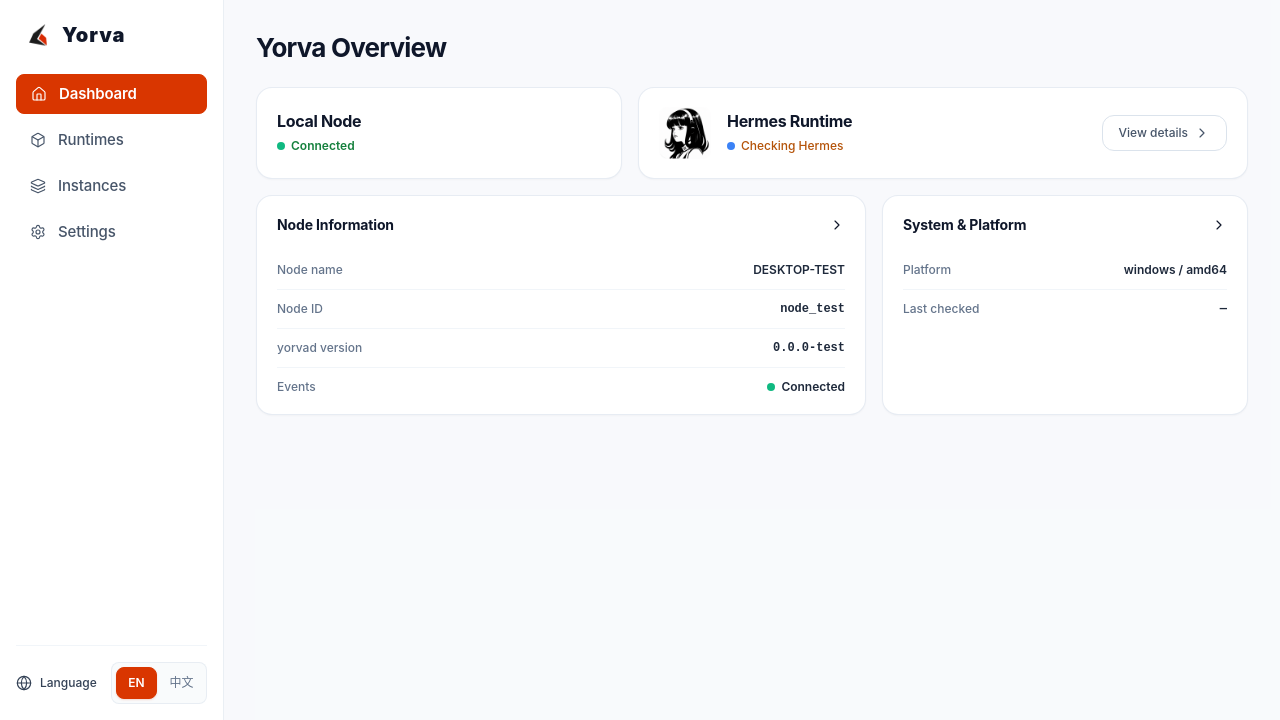
App Desktop navigation and locale › uses separate Dashboard and Runtimes surfaces
Expected: the text "DESKTOP-TEST" is shown, 753,261 -> 845,279
Expected: the heading "Local Node" is shown, 277,109 -> 361,133
Click the button "Runtimes". click: (112,140)
box: 16,120 -> 207,160
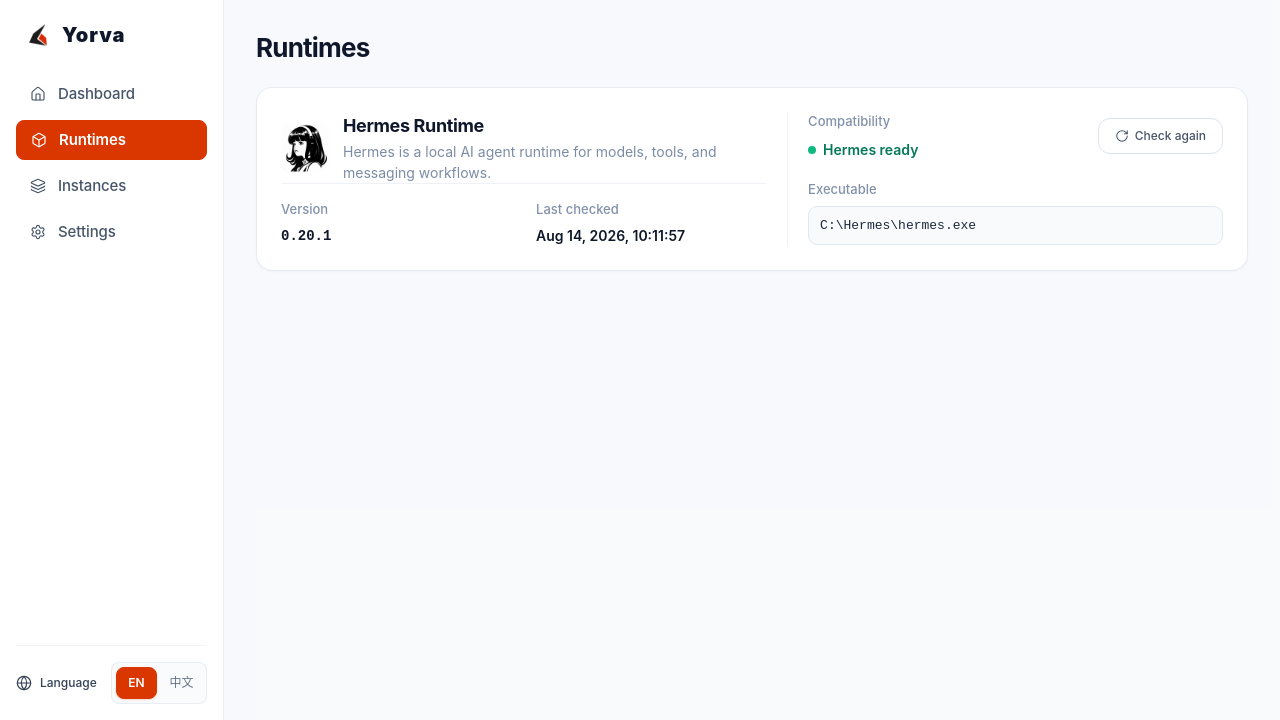
Expected: the heading "Hermes Runtime" is shown, 343,115 -> 484,136
Now the heading "Local Node" is gone
Click the button "Instances". click: (112,186)
box: 16,166 -> 207,206
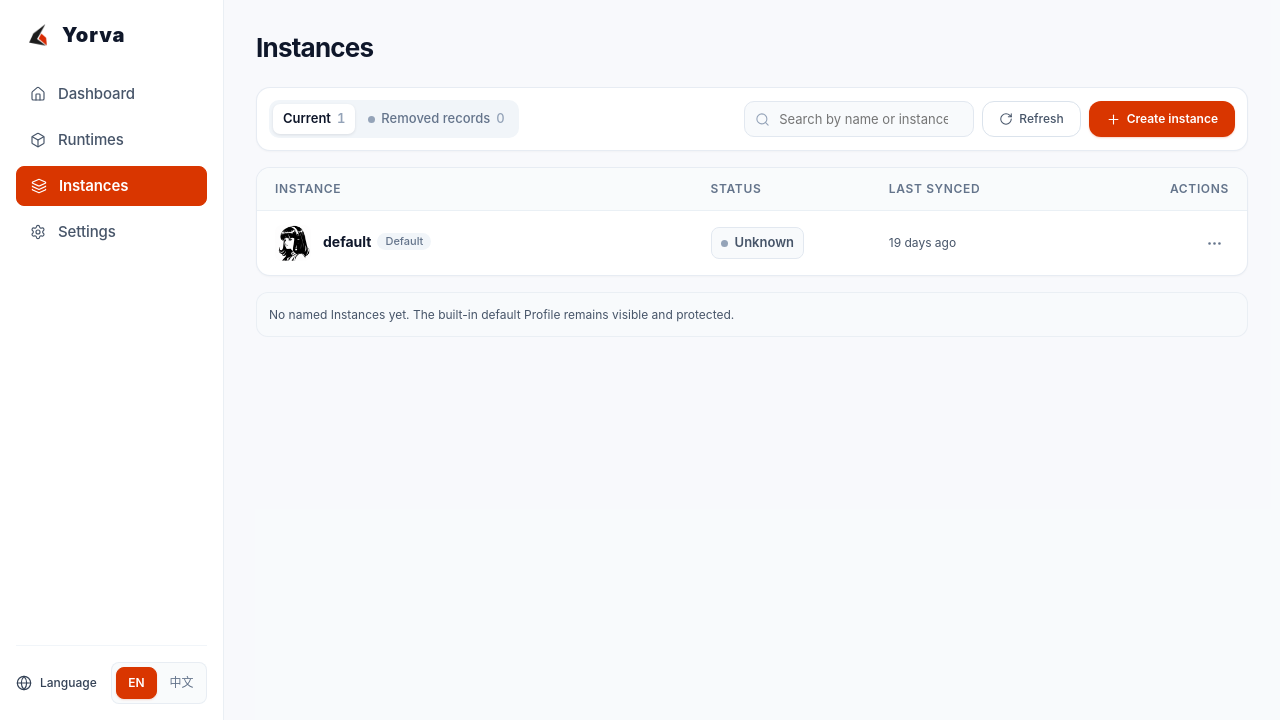
Now the heading "Instances" is shown, box 256,32 -> 373,63
Now the text "default" is shown, box 323,231 -> 371,252
